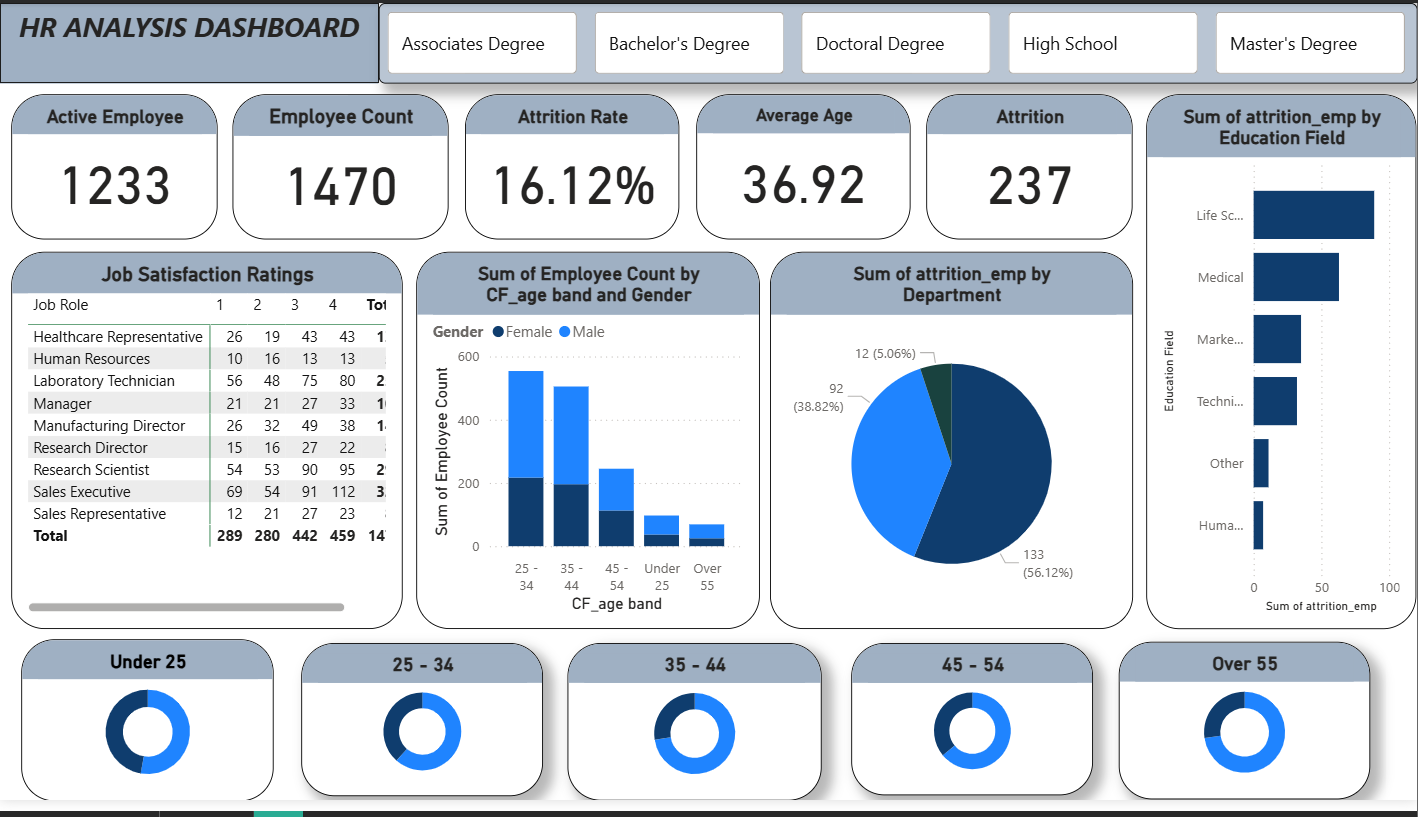

Layout of this report page (visuals, bound fields, positions):
{"tool":"powerbi","page":{"name":"Page 1","canvas":[1280,720],"ordinal":0},"visuals":[{"type":"textbox","box":[0,0,341.7,72.7],"z":0},{"type":"advancedSlicerVisual","fields":{"Values":["HR data.Education"]},"box":[341.7,0,938.6,72.7],"z":1000},{"type":"card","title":"Employee Count","fields":{"Values":["Sum(HR data.Employee Count)"]},"box":[209.8,82.2,195.1,131.3],"z":2000},{"type":"card","title":"Attrition","fields":{"Values":["Sum(HR data.attrition_emp)"]},"box":[836.8,82.2,186.5,131.3],"z":3000},{"type":"card","title":"Attrition Rate","fields":{"Values":["HR data.attrition_rate"]},"box":[419.6,82.2,193.9,131.3],"z":4000},{"type":"card","title":"Average Age","fields":{"Values":["Avg(HR data.Age)"]},"box":[629.5,82.2,193.9,131.3],"z":5000},{"type":"card","title":"Active Employee","fields":{"Values":["Sum(HR data.CF_current Employee)"]},"box":[9.8,82.2,186.5,131.3],"z":6000},{"type":"pivotTable","title":"Job Satisfaction Ratings","fields":{"Rows":["HR data.Job Role"],"Columns":["HR data.Job Satisfaction"],"Values":["CountNonNull(HR data.Job Satisfaction)"]},"box":[9.8,224.5,353.4,341.1],"z":7000},{"type":"columnChart","fields":{"Category":["HR data.CF_age band"],"Y":["Sum(HR data.Employee Count)"],"Series":["HR data.Gender"]},"box":[375.5,224.5,310.4,341.1],"z":8000},{"type":"pieChart","fields":{"Category":["HR data.Department"],"Y":["Sum(HR data.attrition_emp)"]},"box":[695.7,224.5,327.6,341.1],"z":9000},{"type":"clusteredBarChart","fields":{"Category":["HR data.Education Field"],"Y":["Sum(HR data.attrition_emp)"]},"box":[1035.6,82.2,244.2,483.4],"z":10000},{"type":"donutChart","title":"Under 25","fields":{"Category":["HR data.Gender"],"Y":["Sum(HR data.attrition_emp)"],"Series":["HR data.CF_age band"]},"box":[19.6,574.2,228.2,146],"z":11000},{"type":"donutChart","title":"25 - 34","fields":{"Category":["HR data.Gender"],"Series":["HR data.CF_age band"],"Y":["Sum(HR data.attrition_emp)"]},"box":[272.4,577.9,218.4,138.7],"z":12000},{"type":"donutChart","title":"35 - 44","fields":{"Category":["HR data.Gender"],"Y":["Sum(HR data.attrition_emp)"],"Series":["HR data.CF_age band"]},"box":[512.9,577.9,229.4,142.3],"z":13000},{"type":"donutChart","title":"Over 55","fields":{"Category":["HR data.Gender"],"Y":["Sum(HR data.attrition_emp)"],"Series":["HR data.CF_age band"]},"box":[1011,576.7,227,142.3],"z":14000},{"type":"donutChart","title":"45 - 54","fields":{"Category":["HR data.Gender"],"Y":["Sum(HR data.attrition_emp)"],"Series":["HR data.CF_age band"]},"box":[769.3,577.9,218.4,137.4],"z":15000}]}

Visuals, with their boxes in screenshot pixels (x1, y1, x2, y2), scaled from the page's 1280x720 canvas onto the 1418x817 screenshot:
textbox: bbox=(0, 0, 379, 82)
advancedSlicerVisual - HR data.Education: bbox=(379, 0, 1417, 82)
"Employee Count" card: bbox=(232, 93, 449, 242)
"Attrition" card: bbox=(927, 93, 1134, 242)
"Attrition Rate" card: bbox=(465, 93, 680, 242)
"Average Age" card: bbox=(697, 93, 912, 242)
"Active Employee" card: bbox=(11, 93, 217, 242)
"Job Satisfaction Ratings" pivotTable: bbox=(11, 255, 402, 642)
columnChart - HR data.CF_age band x Sum(HR data.Employee Count): bbox=(416, 255, 760, 642)
pieChart - HR data.Department x Sum(HR data.attrition_emp): bbox=(771, 255, 1134, 642)
clusteredBarChart - HR data.Education Field x Sum(HR data.attrition_emp): bbox=(1147, 93, 1417, 642)
"Under 25" donutChart: bbox=(22, 652, 275, 816)
"25 - 34" donutChart: bbox=(302, 656, 544, 813)
"35 - 44" donutChart: bbox=(568, 656, 822, 816)
"Over 55" donutChart: bbox=(1120, 654, 1371, 816)
"45 - 54" donutChart: bbox=(852, 656, 1094, 812)
